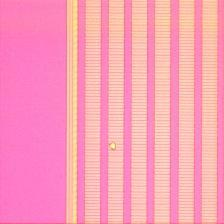BLOCK ETCH: (107, 141, 119, 153)
